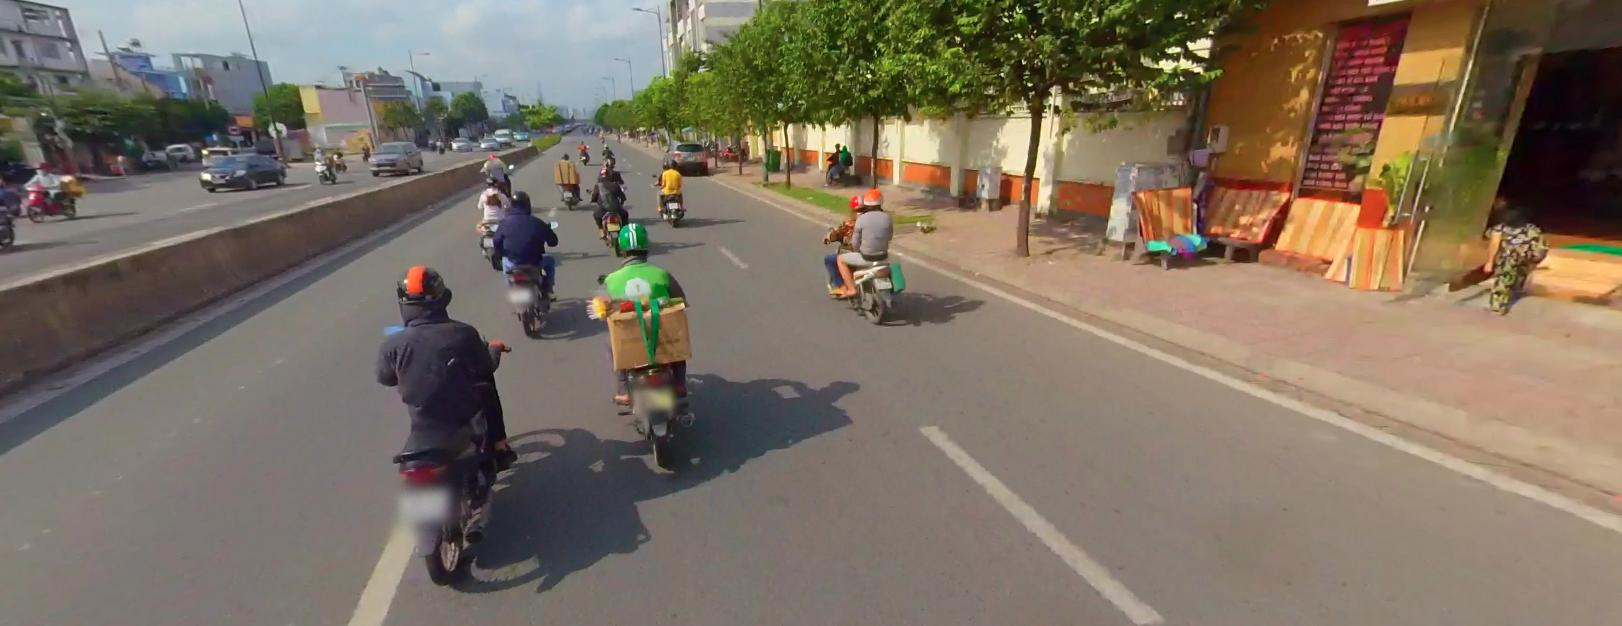Cam con lai: (226, 123, 240, 134)
